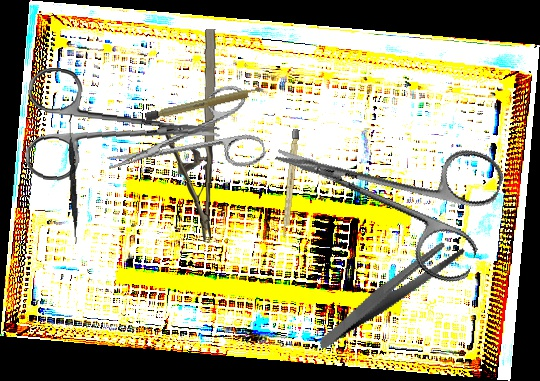Dressing Forceps: (301, 235, 480, 351)
Iris Scissors: (255, 86, 510, 289), (22, 66, 225, 192), (96, 80, 269, 201)
Needle Holder: (159, 26, 222, 243)
Scalpel Handle: (144, 85, 267, 122), (281, 128, 300, 239)
Spatula Surgical: (64, 114, 82, 245)
